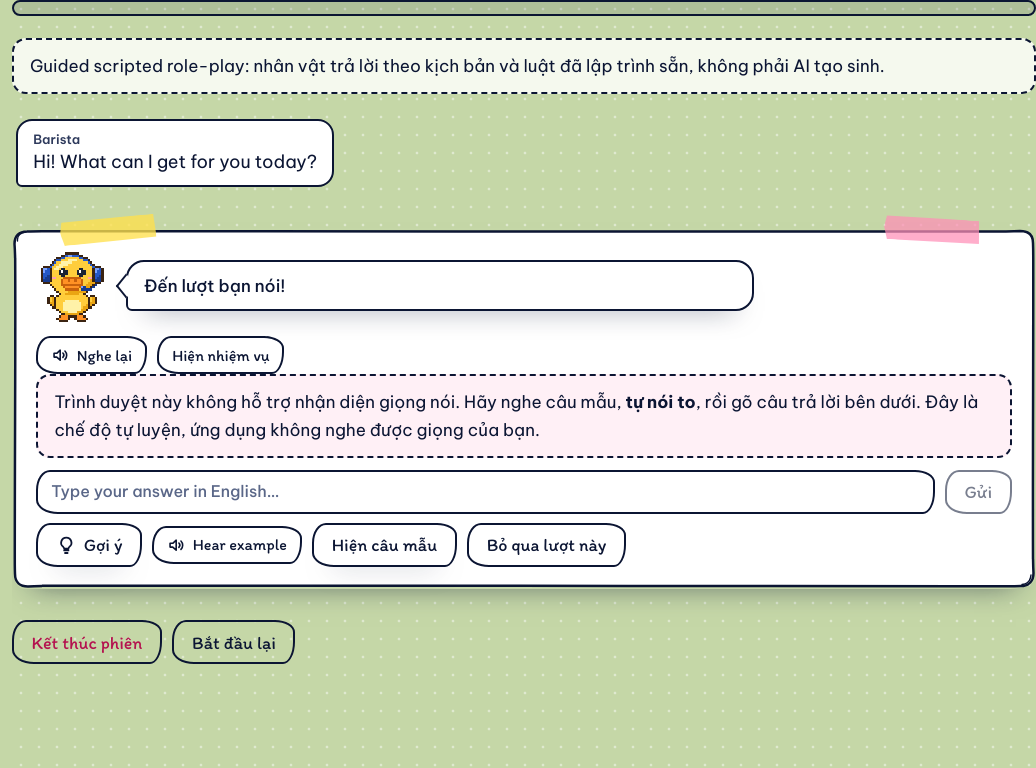
Speaking workspace – guided scripted conversation (typed fallback) › hides the task in role-play mode and labels it as scripted
The image size is (1036, 768).
Expected: the text "Guided scripted role-play" is shown, [30,55,885,77]
Expected: the text "Nhiệm vụ:" is not shown
Step 1. Click the button "Hiện nhiệm vụ" → {"x": 221, "y": 355}, box [157,336,284,374]
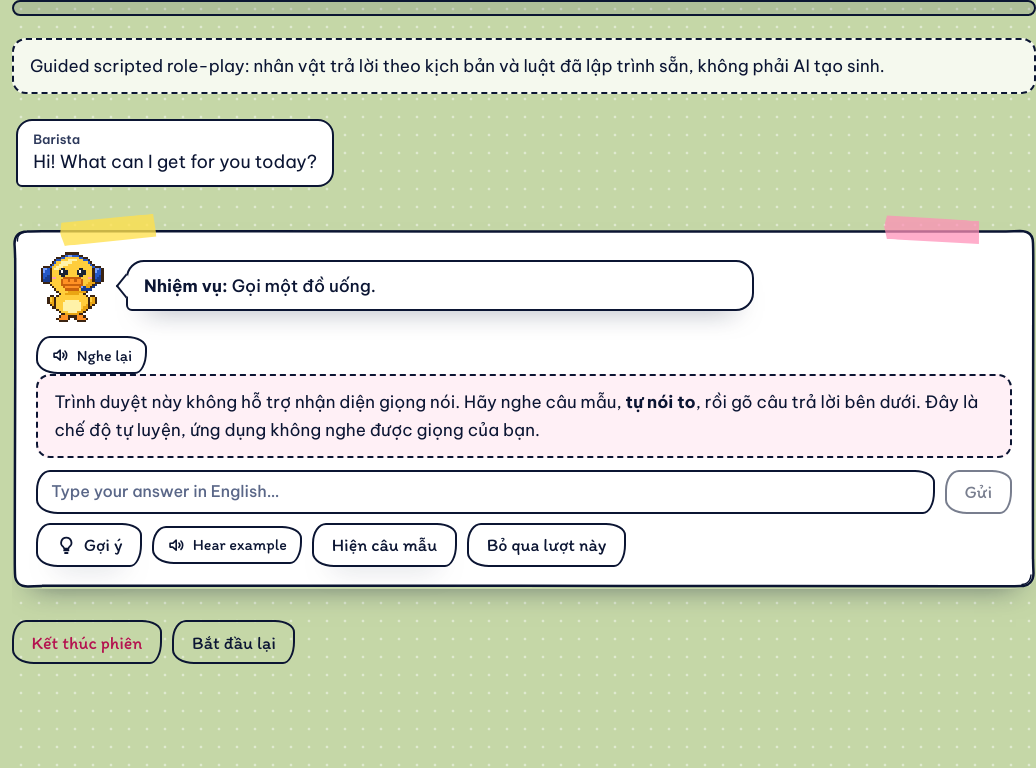
Result: the text "Nhiệm vụ:" is shown at [144,275,228,297]
